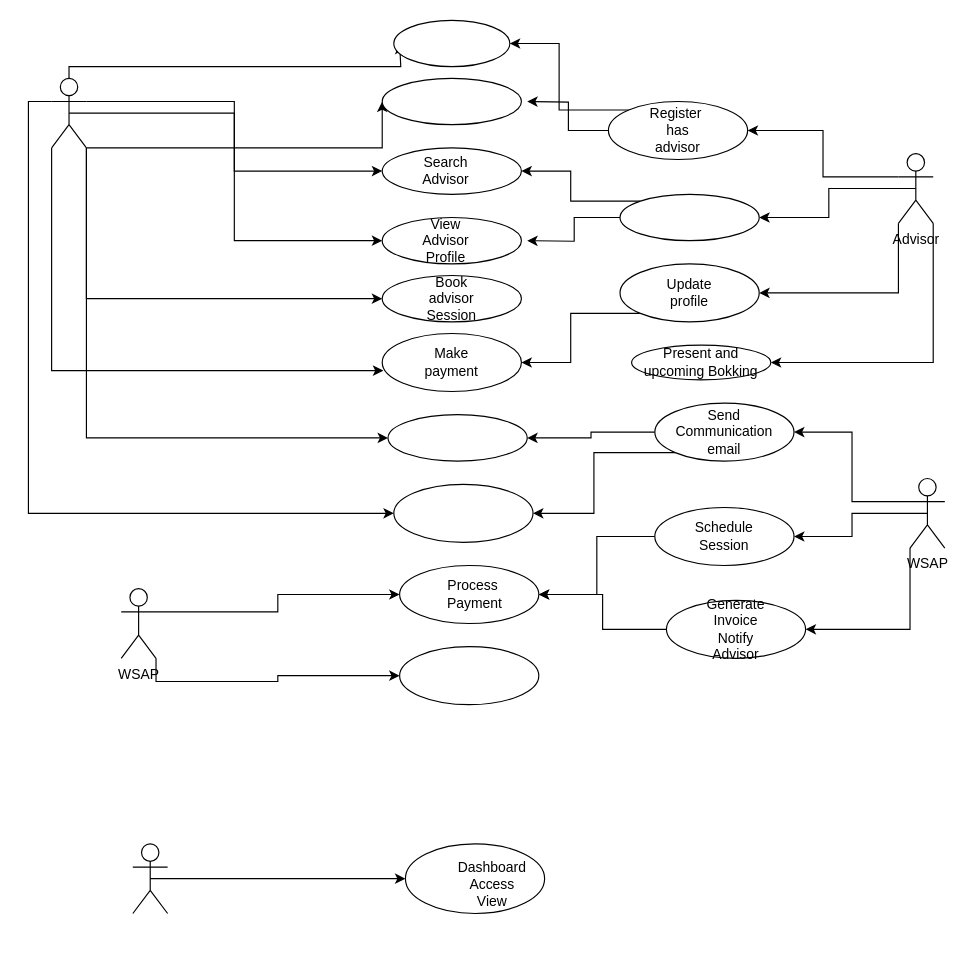
This 967x958 diagram has some shape labels left out. Each missing label, with the centre of its shape:
"Admin" goes at (x=150, y=878).
"Client" goes at (x=68, y=112).
"Confirm Payment" goes at (x=468, y=675).
"Login" goes at (x=451, y=101).
"Receive Email Confirmation" goes at (x=457, y=437).
"Register" goes at (x=451, y=43).
"Set Availability" goes at (x=689, y=217).
"View Booking History" goes at (x=463, y=512).
